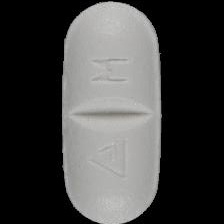63187-545: (0, 0, 224, 224)
